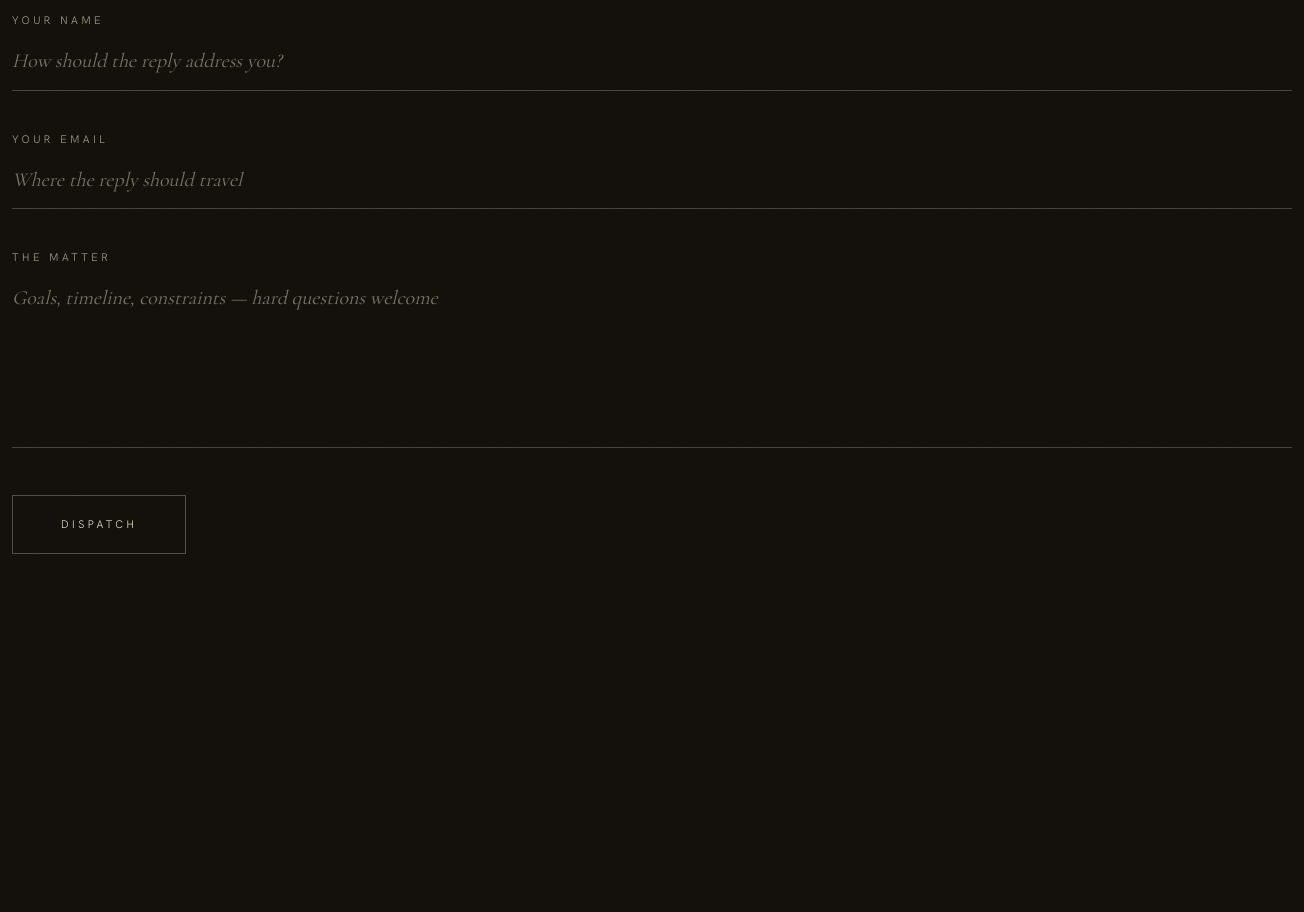
Test: response states › client validation failure: no request is made at all
This screenshot has width=1304, height=912.
Click the button "Dispatch".
click(99, 524)  # box [12,495,186,554]
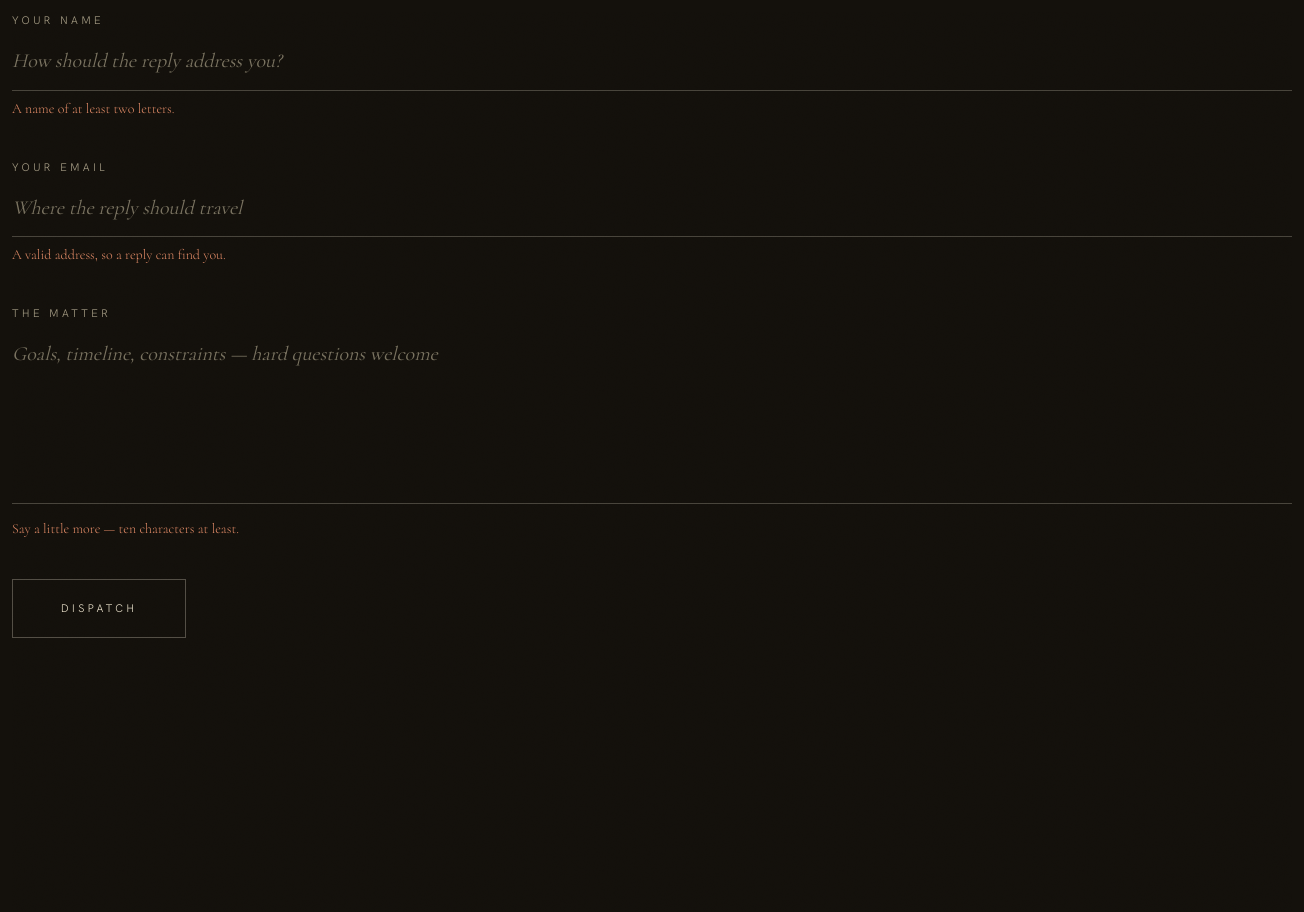
Check: the number of messages is 3, box [12,100,175,117]; [12,246,226,263]; [12,520,239,537]
